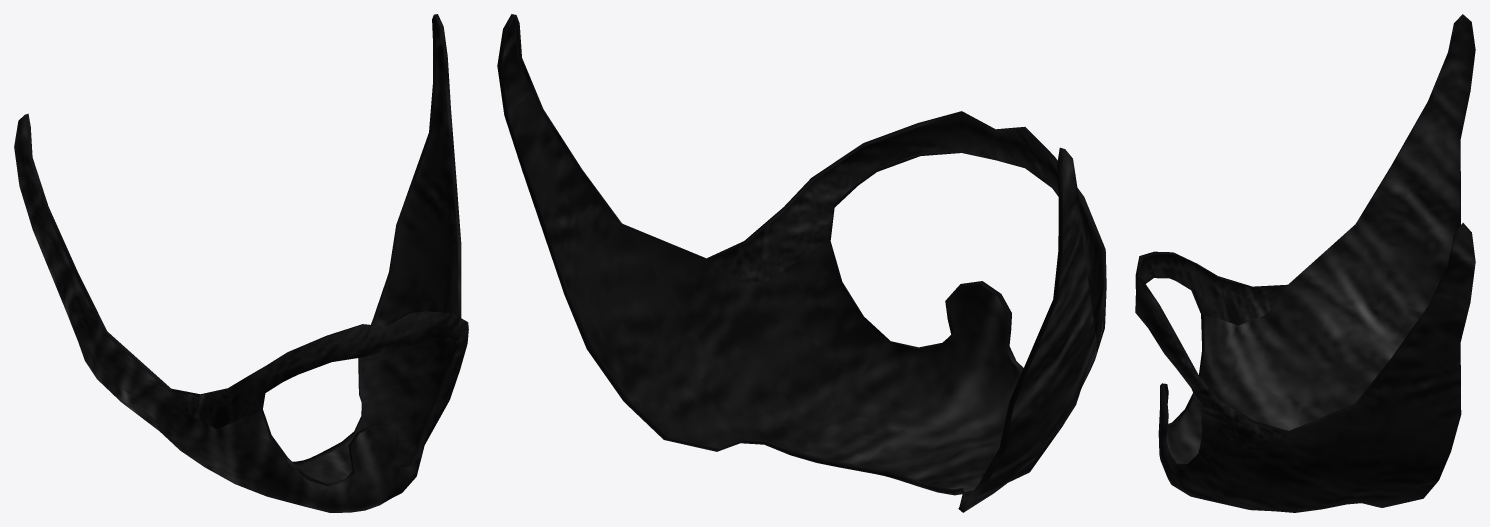
Rendered from 231101_G_Beard.glb.
3 views of the same model, side by side, from view 1: azimuth 30°, elevation 25°; view 2: azimuth 150°, elevation 25°; view 3: azimuth 270°, elevation 25° (orthographic). The views are drawn at different scales.
Visible parts, largest first — view 1: G_Beard; view 2: G_Beard; view 3: G_Beard.
Part boxes in pixels (x1,y1,x2,y2): G_Beard: (14,14,468,512); G_Beard: (497,14,1106,512); G_Beard: (1135,14,1475,512).
Bounding box in the file's own units: 0.154 × 0.1231 × 0.1029.
1 material, 1 textured.
